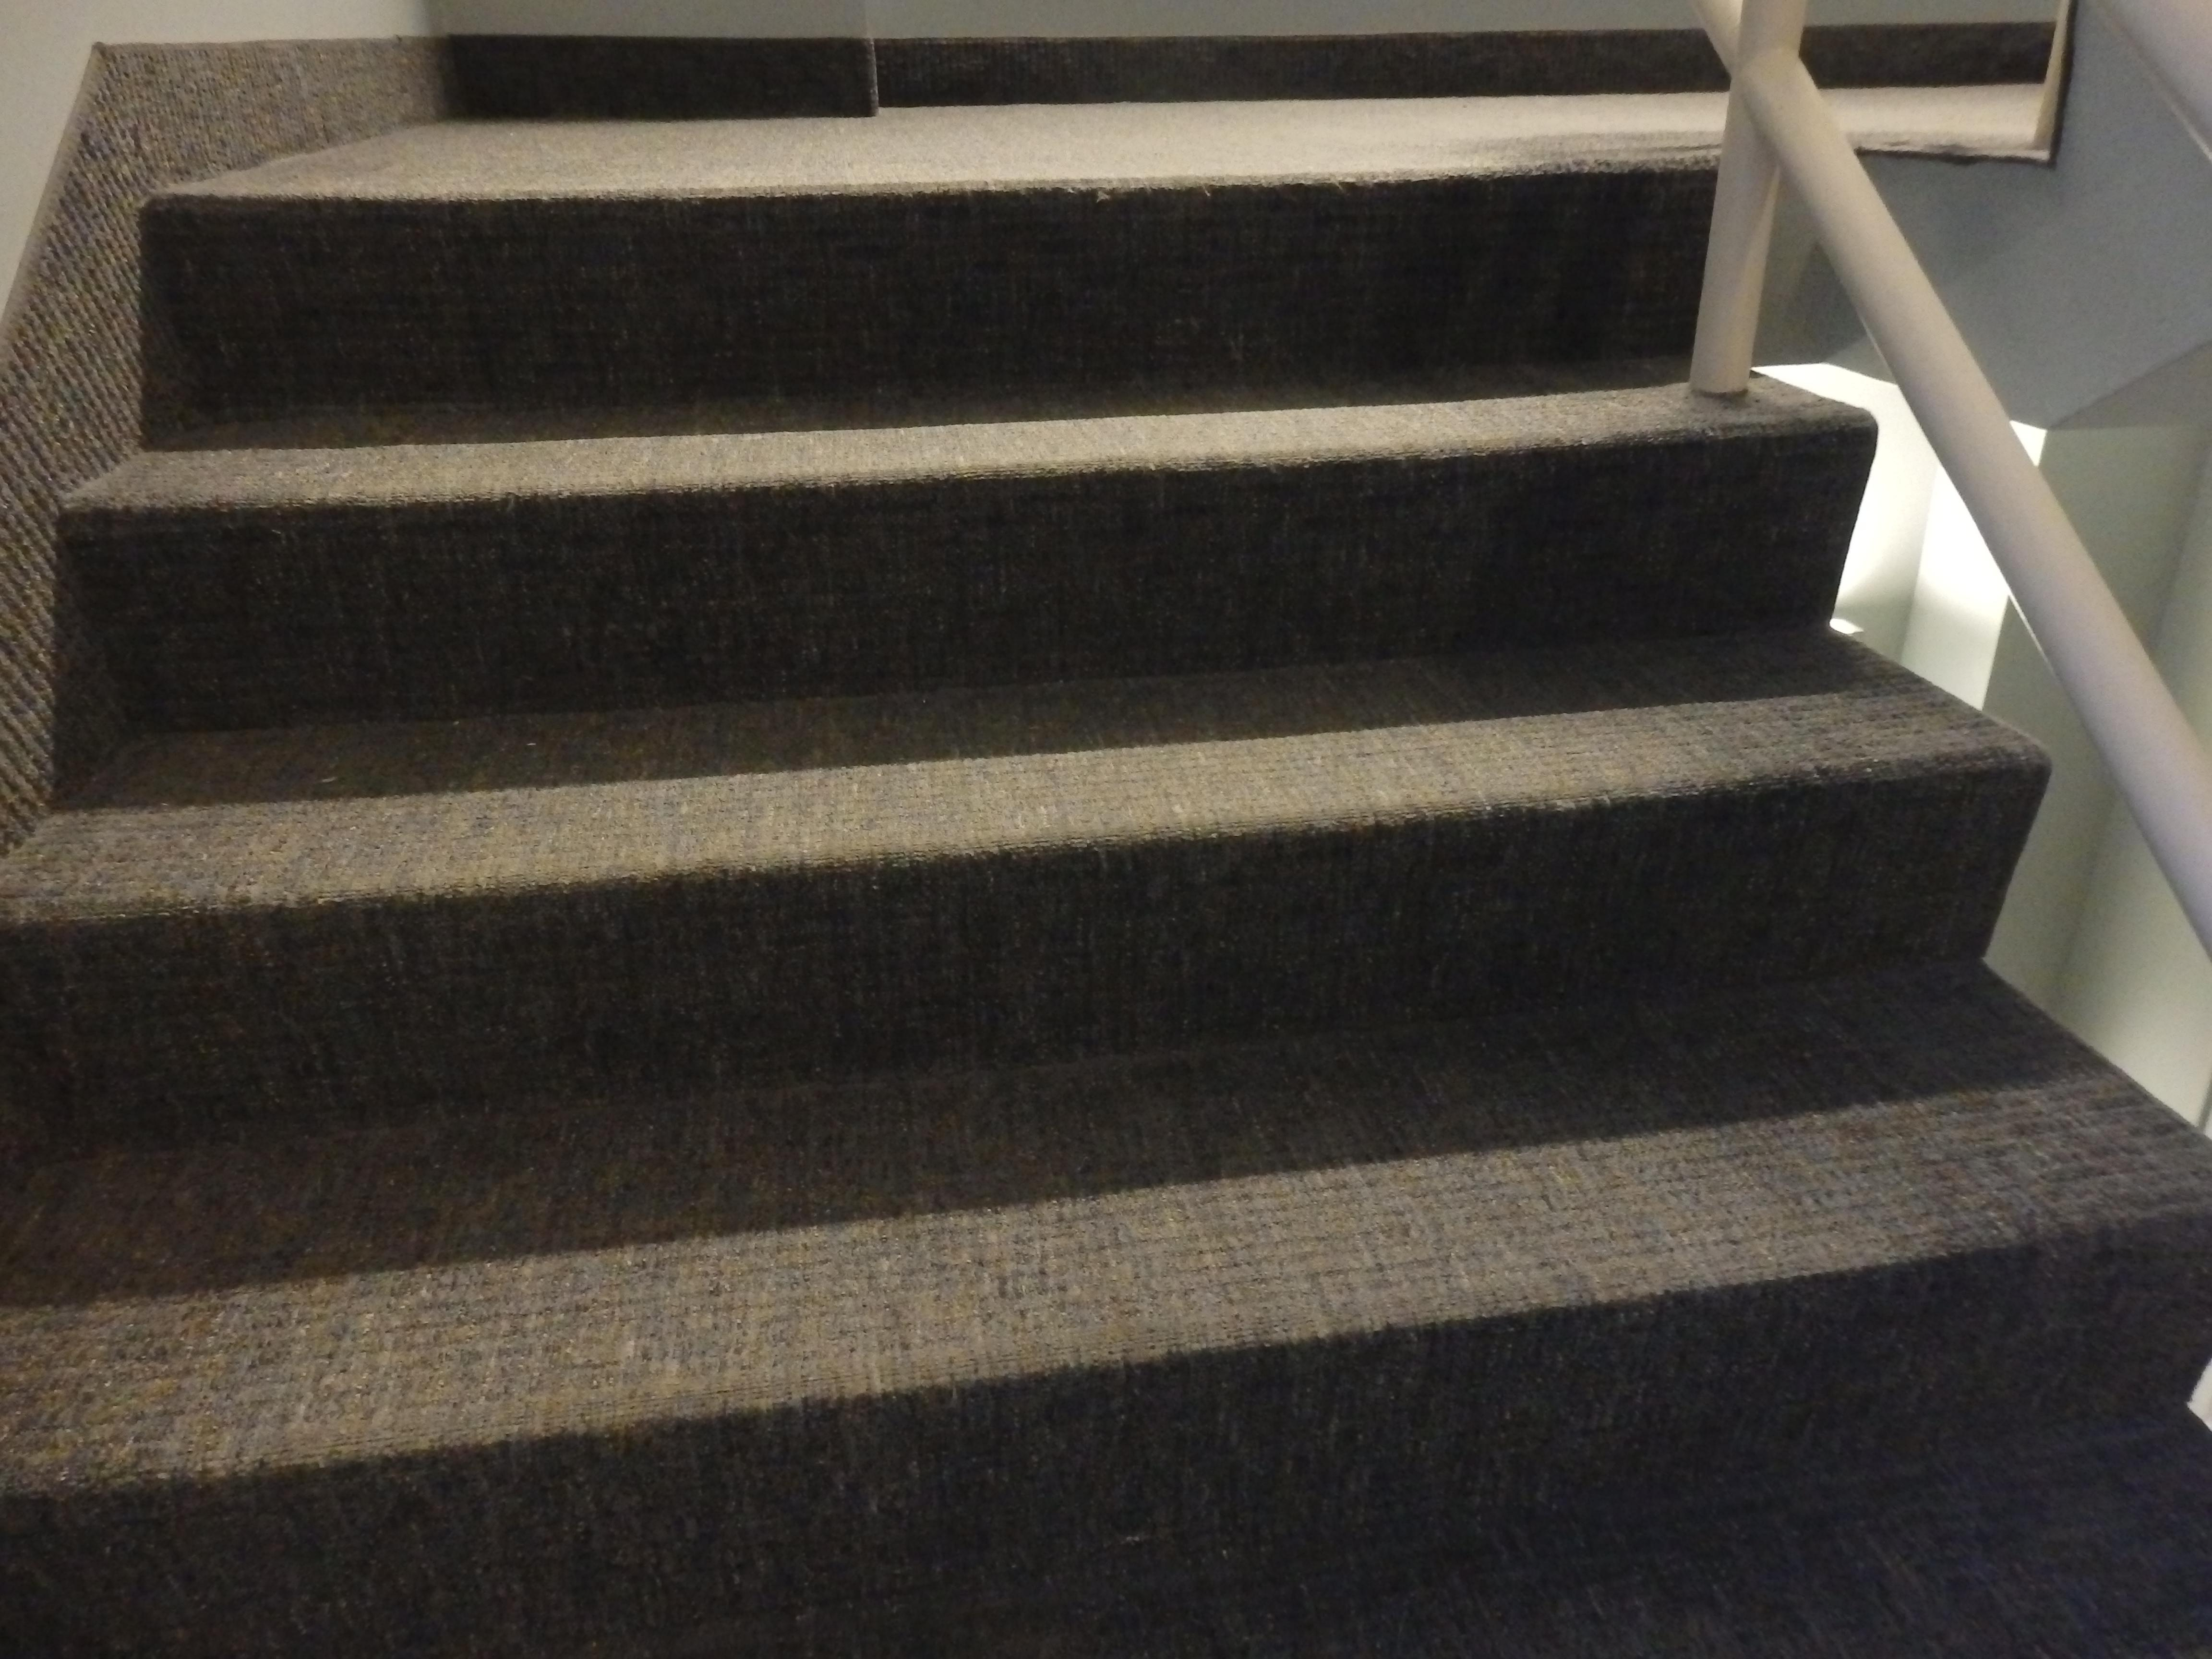stairs_up: (117, 185, 2196, 1659)
